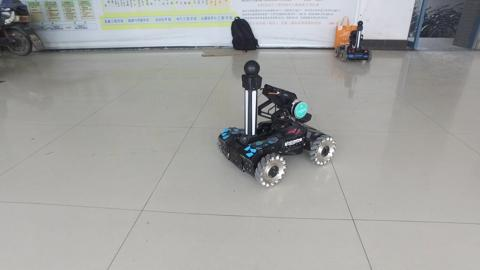bag: (227, 14, 263, 53), (335, 15, 358, 50)
chariot: (216, 58, 337, 188), (334, 19, 373, 62)
